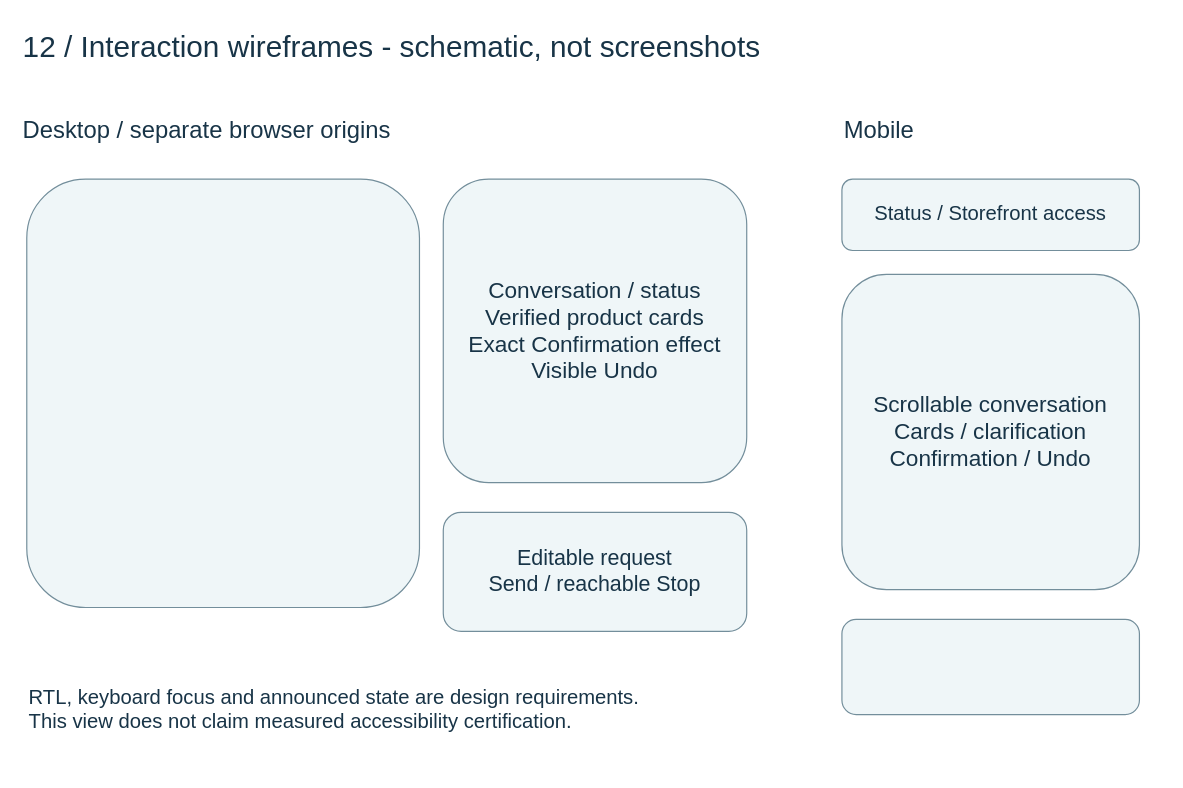
Some shapes in this 1183 by 788 pixel diagram are drawn without their labels. The shapes that lost their labels are listed below. From the top down, each one's centre as x and y in pixels, then its label:
the point at 222,392: Embedded Storefront Products / selected variant Manual login and payment
the point at 990,666: Composer + Send + Stop
